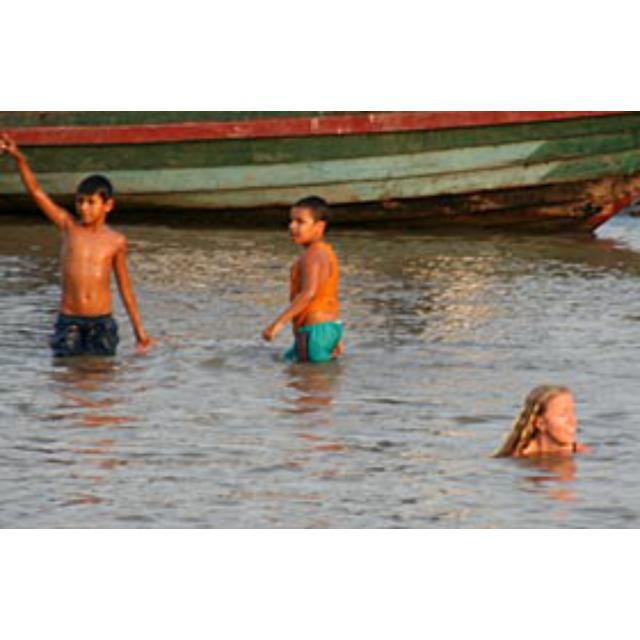human: (1, 130, 154, 361), (262, 190, 342, 372), (496, 385, 594, 462)
